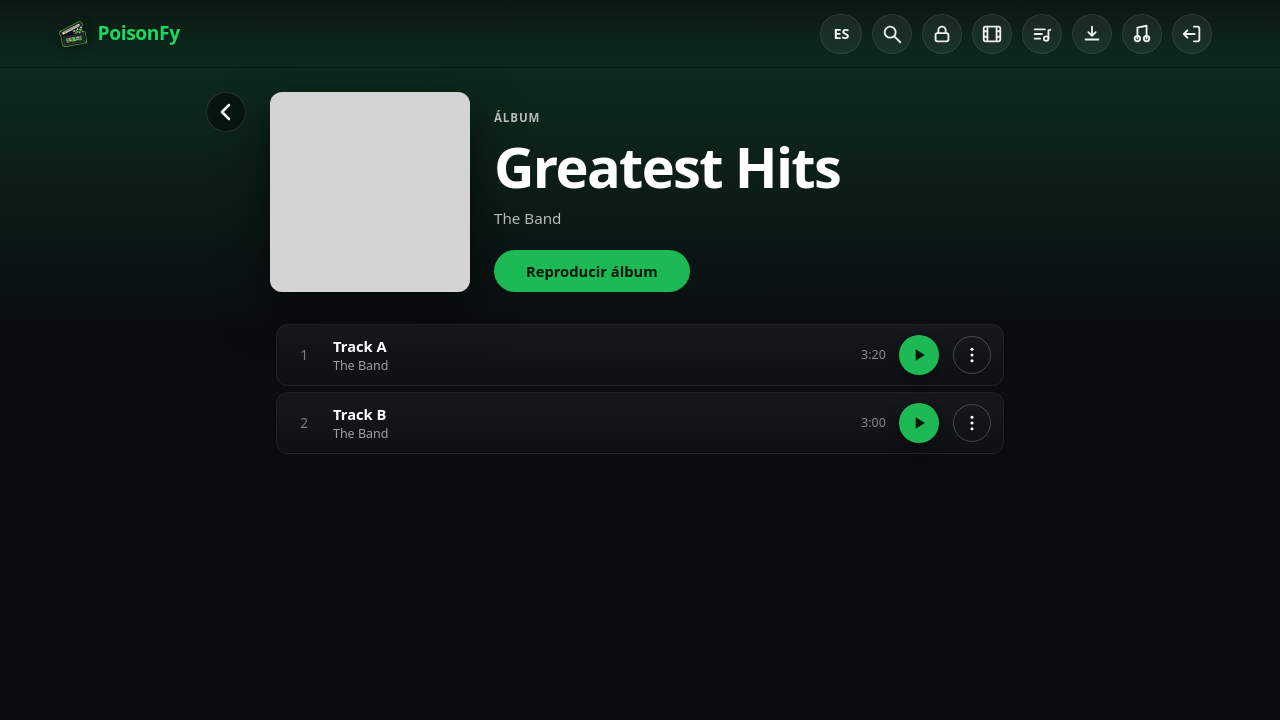
Test: AlbumScreen (Música — Slice 3) › "Reproducir álbum" plays the whole album from the first track (playNow)
expect the text "Track A" is shown: met, box top-left (333, 336), bottom-right (387, 356)
What coordinates should you click on to do the following:
click the button "Reproducir álbum"
I would click on:
 (592, 271)
Its box is top-left (494, 250), bottom-right (690, 292).
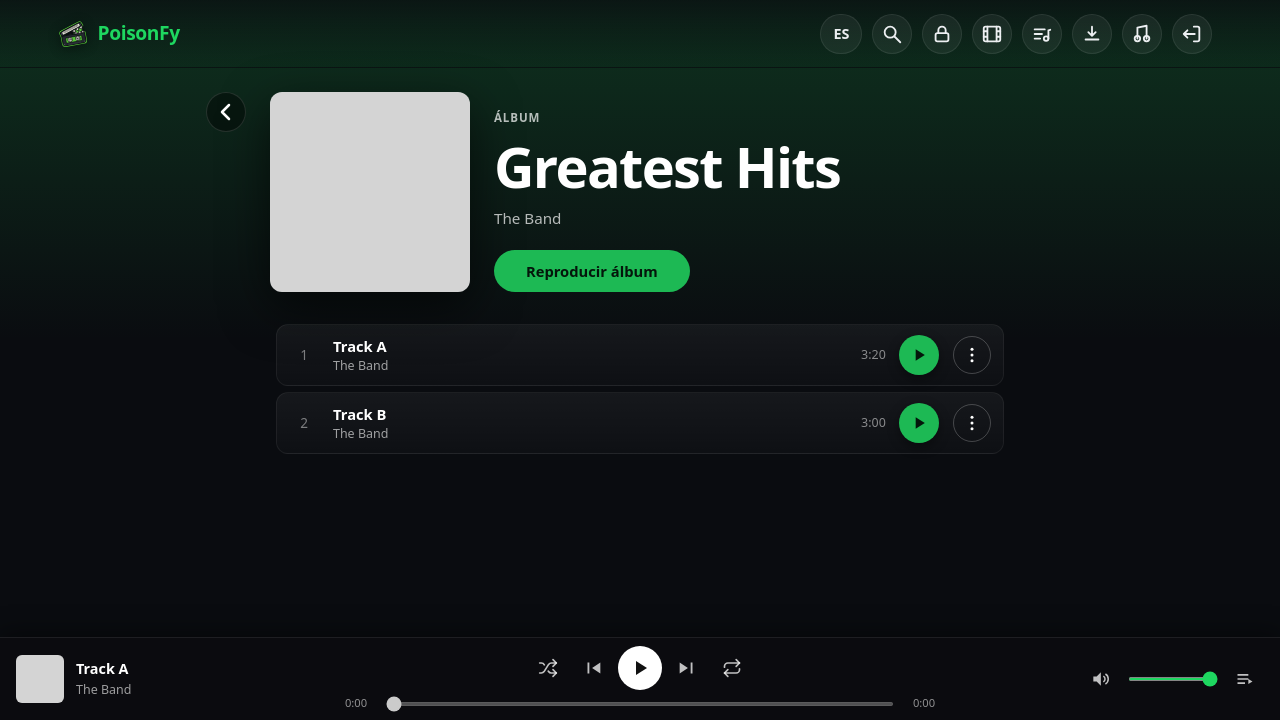
expect the 2nd text "Track A" is shown: met, box top-left (76, 659), bottom-right (128, 678)
